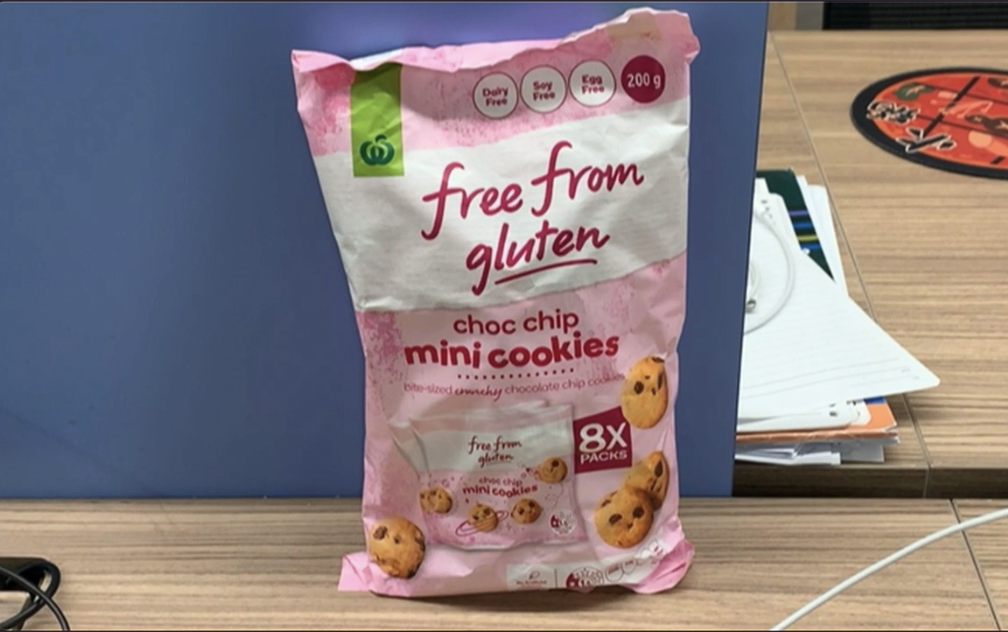cookies_200g-299g: (372, 79, 663, 570)
